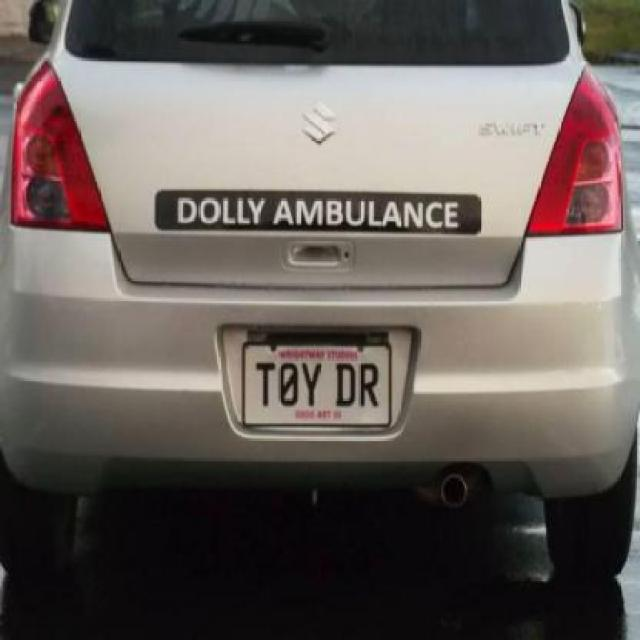License-Plates: (239, 341, 393, 432)
